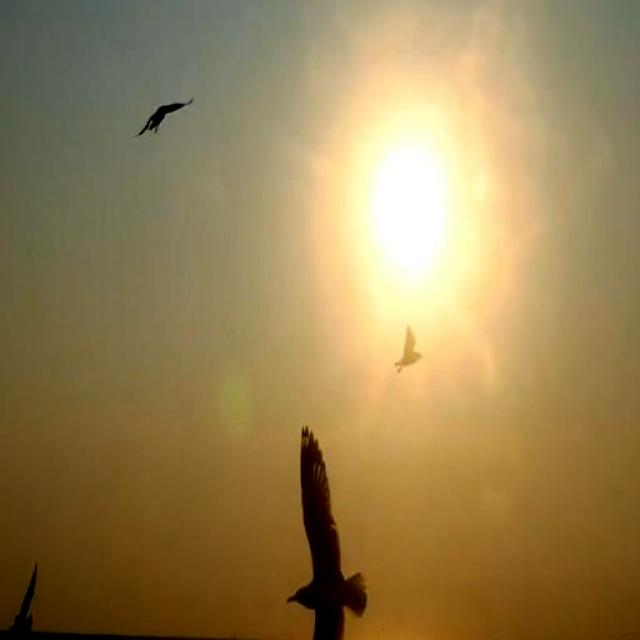airplane: (278, 412, 370, 640), (0, 542, 49, 640), (139, 88, 198, 145), (392, 309, 429, 376)
